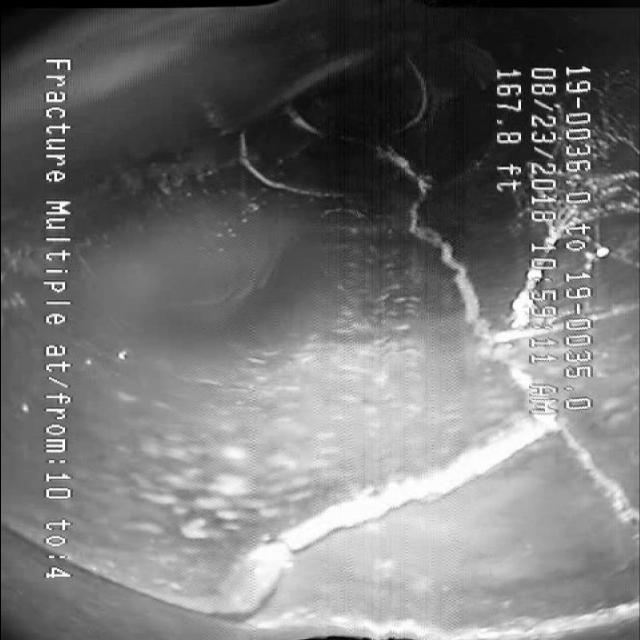Fracture: (231, 428, 523, 612), (404, 223, 554, 393)
